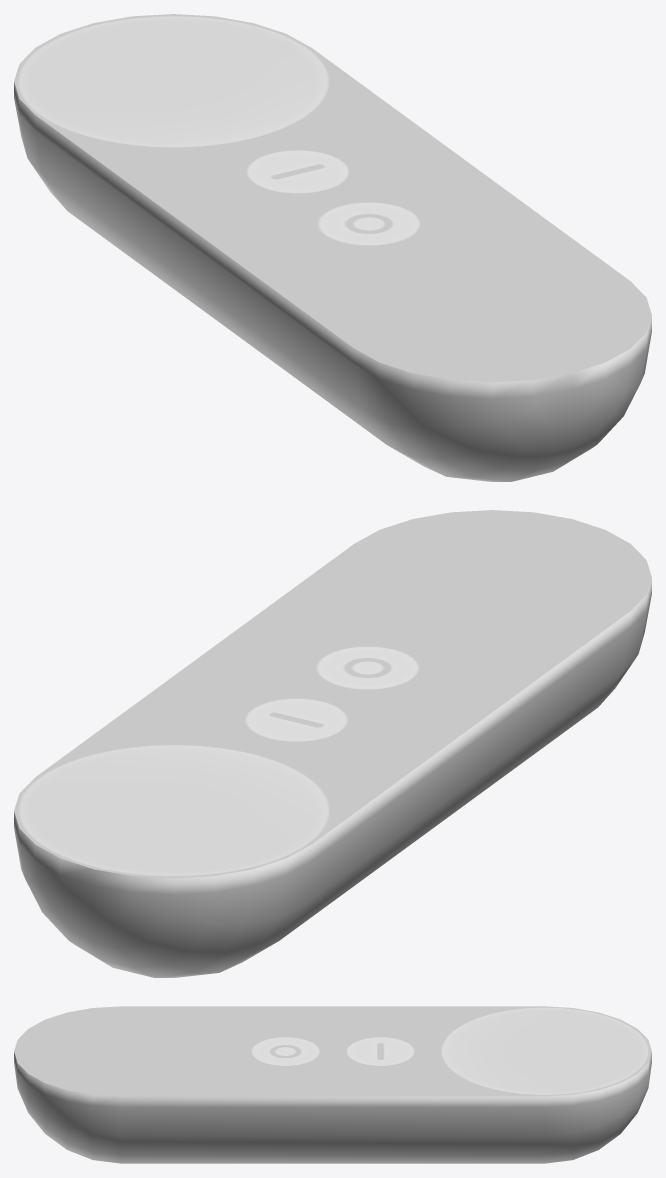
3 views of the same model, one above another, from view 1: azimuth 30°, elevation 25°; view 2: azimuth 150°, elevation 25°; view 3: azimuth 270°, elevation 25° (orthographic). The views are drawn at different scales.
Visible parts, largest first — view 1: controller; view 2: controller; view 3: controller.
Part boxes in pixels (left/top/right/bottom): controller: left=14, top=14, right=651, bottom=481; controller: left=14, top=510, right=651, bottom=977; controller: left=14, top=1006, right=651, bottom=1163.
Bounding box in the file's own units: 0.0322 × 0.0168 × 0.0966.
Materials: 1 (1 with a texture image).
